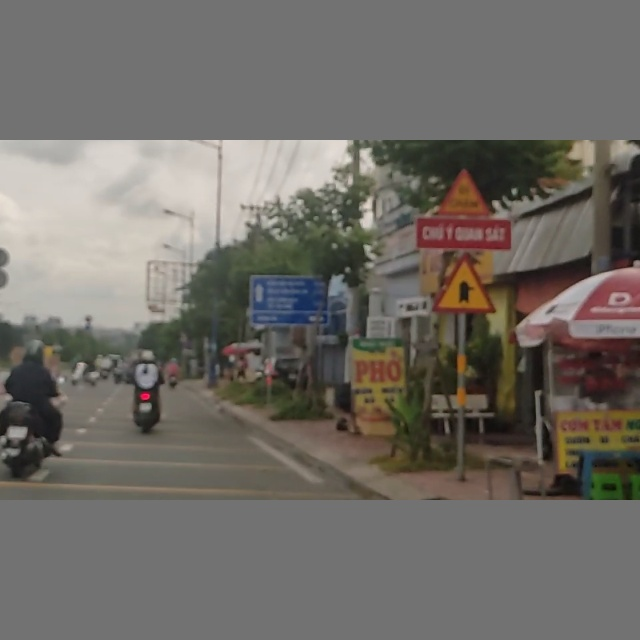W.207: (428, 252, 502, 316)
